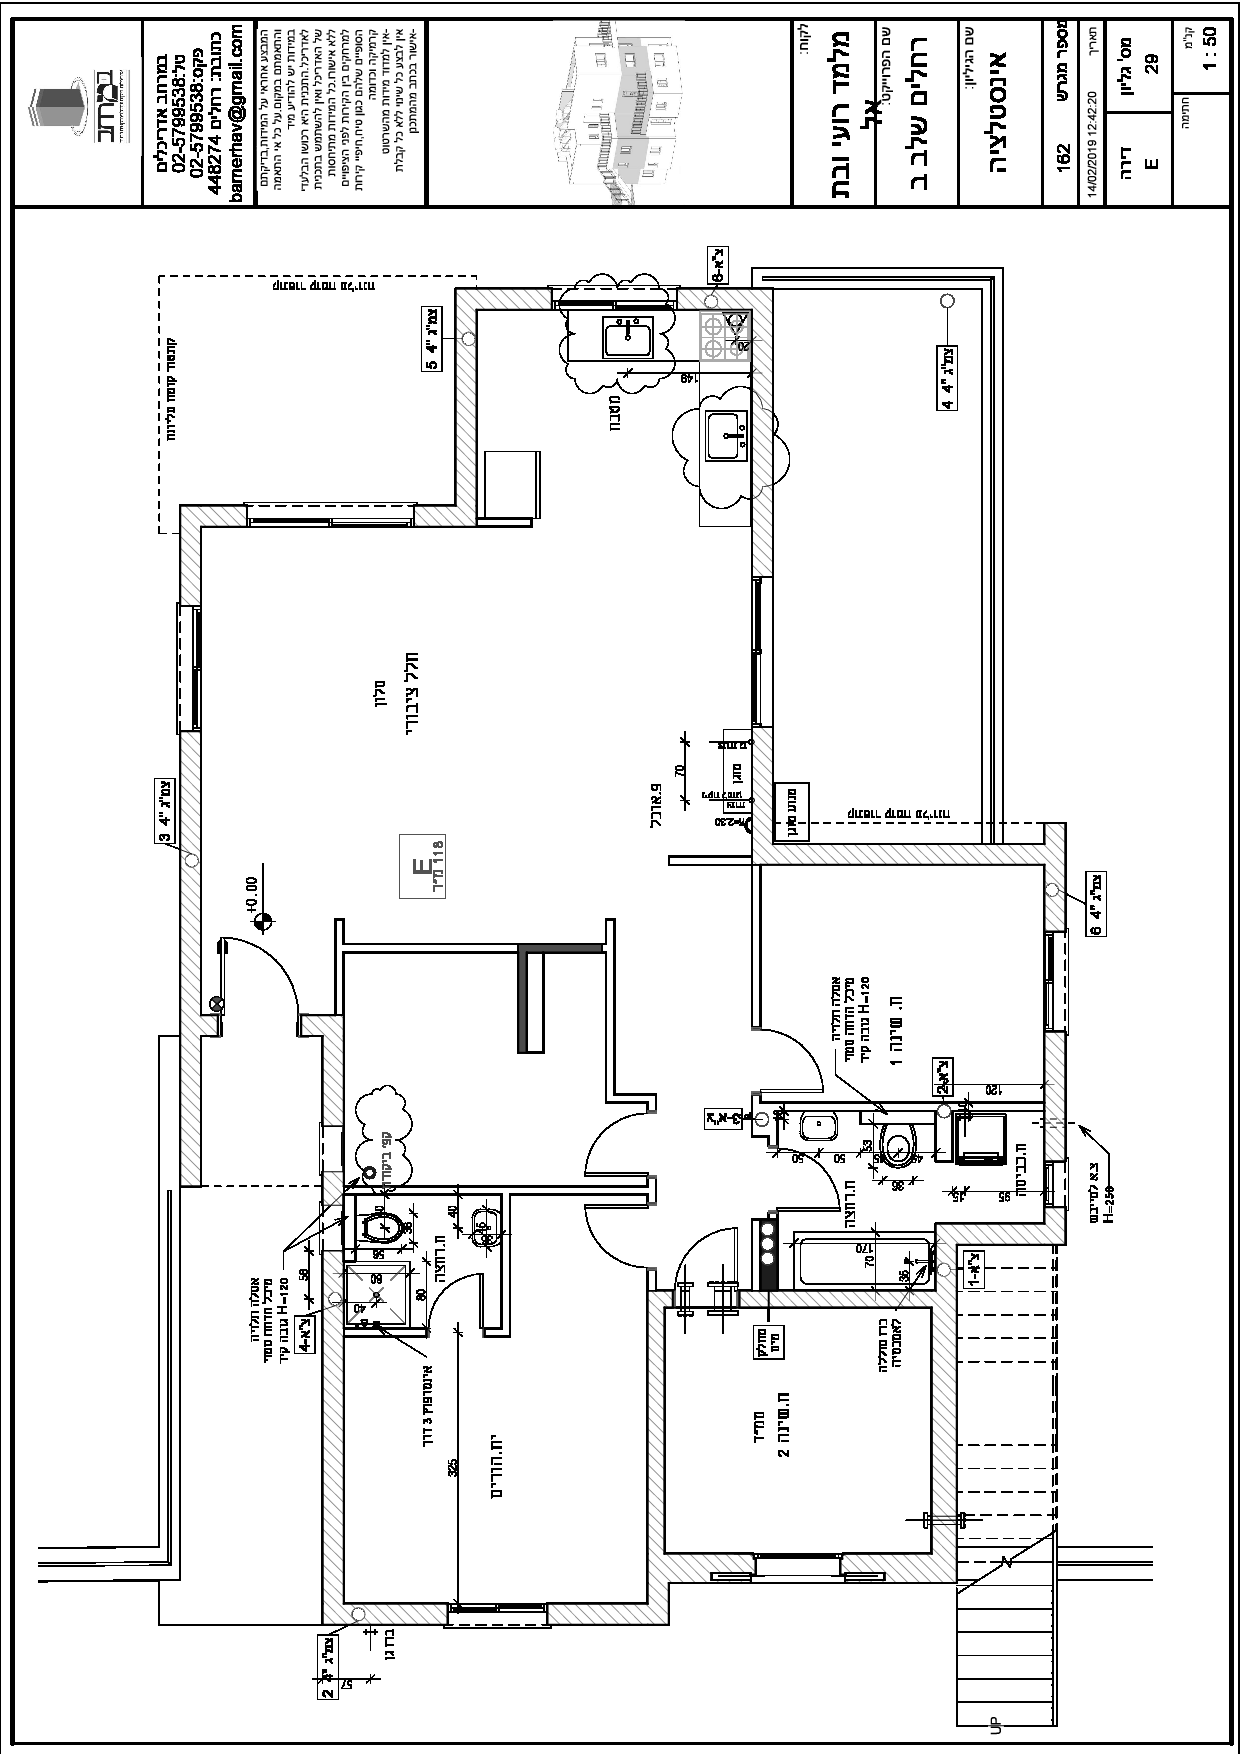door: (212, 934, 305, 1012), (580, 1110, 645, 1180), (580, 1201, 645, 1271), (764, 1027, 829, 1096)
